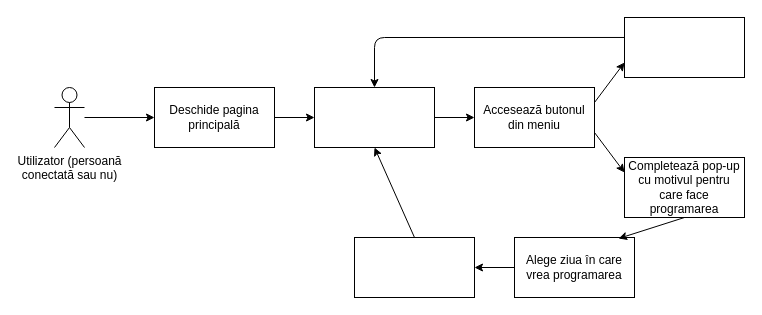
Some shapes in this 762 by 315 pixel diagram are drawn without their labels. The shapes that lost their labels are listed below. From the top down, each one's centre as x and y in pixels, then its label:
the point at 684,47: Autentificare
the point at 374,117: Accesează pagina cu informațiile complete despre un service din listă
the point at 414,267: Alege ora în care vrea programarea
